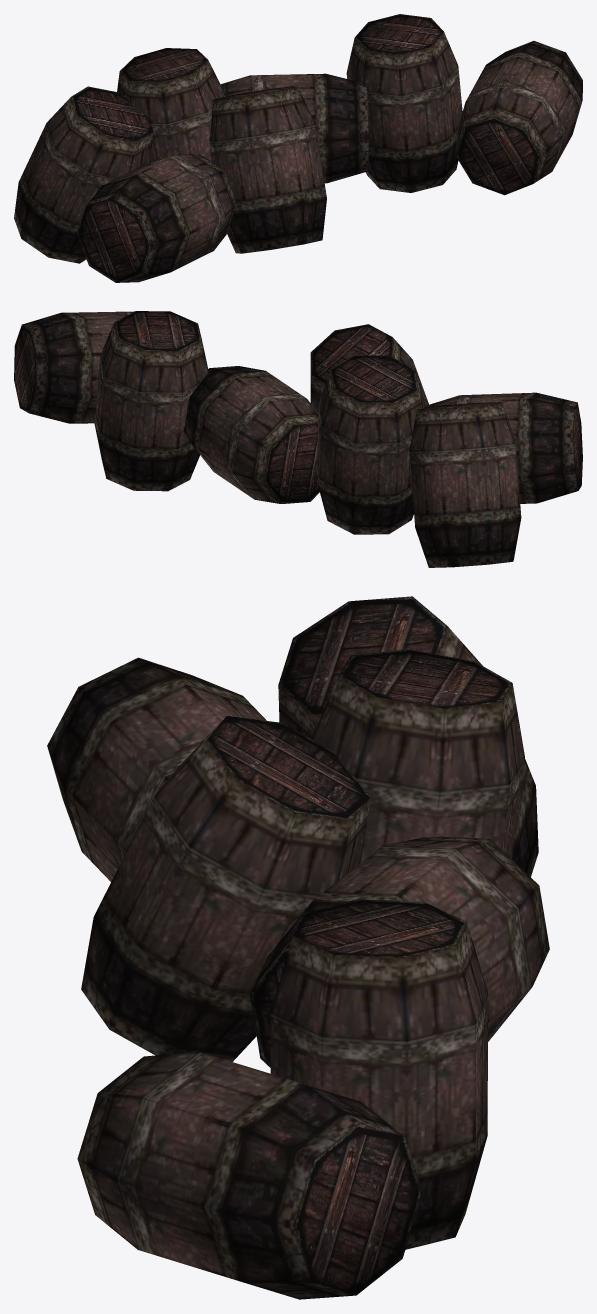
Rendered from OC_BARRELS_STRUBBELIG.glb.
The picture shows the model from 3 angles, top to bottom: view 1: azimuth 30°, elevation 25°; view 2: azimuth 150°, elevation 25°; view 3: azimuth 270°, elevation 25°; orthographic projection. The views are drawn at different scales.
Parts seen in each view (by area): view 1: Mesh; view 2: Mesh; view 3: Mesh.
Part boxes in pixels (x1,y1,x2,y2): Mesh: (14, 14, 582, 282); Mesh: (14, 311, 582, 567); Mesh: (47, 596, 549, 1299).
Bounding box in the file's own units: 4.34 × 1.36 × 1.79.
1 material, 1 textured.
